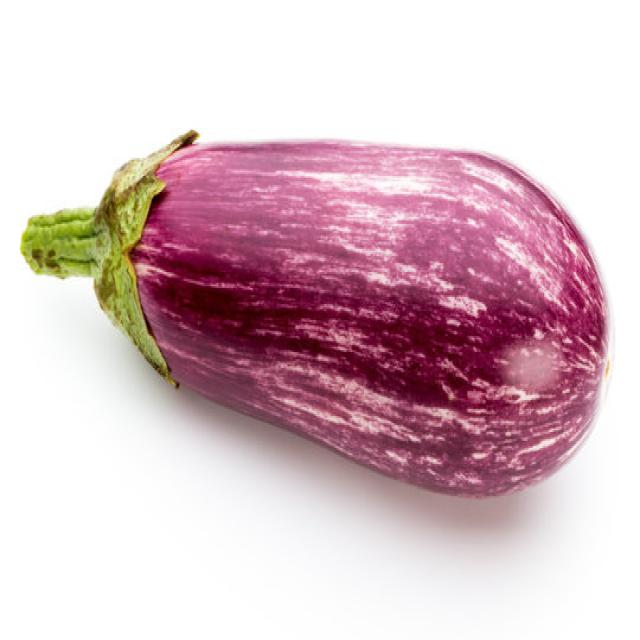Eggplant: (20, 128, 614, 500)
